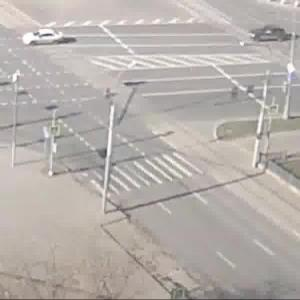car: (22, 28, 67, 48), (251, 28, 297, 45)
